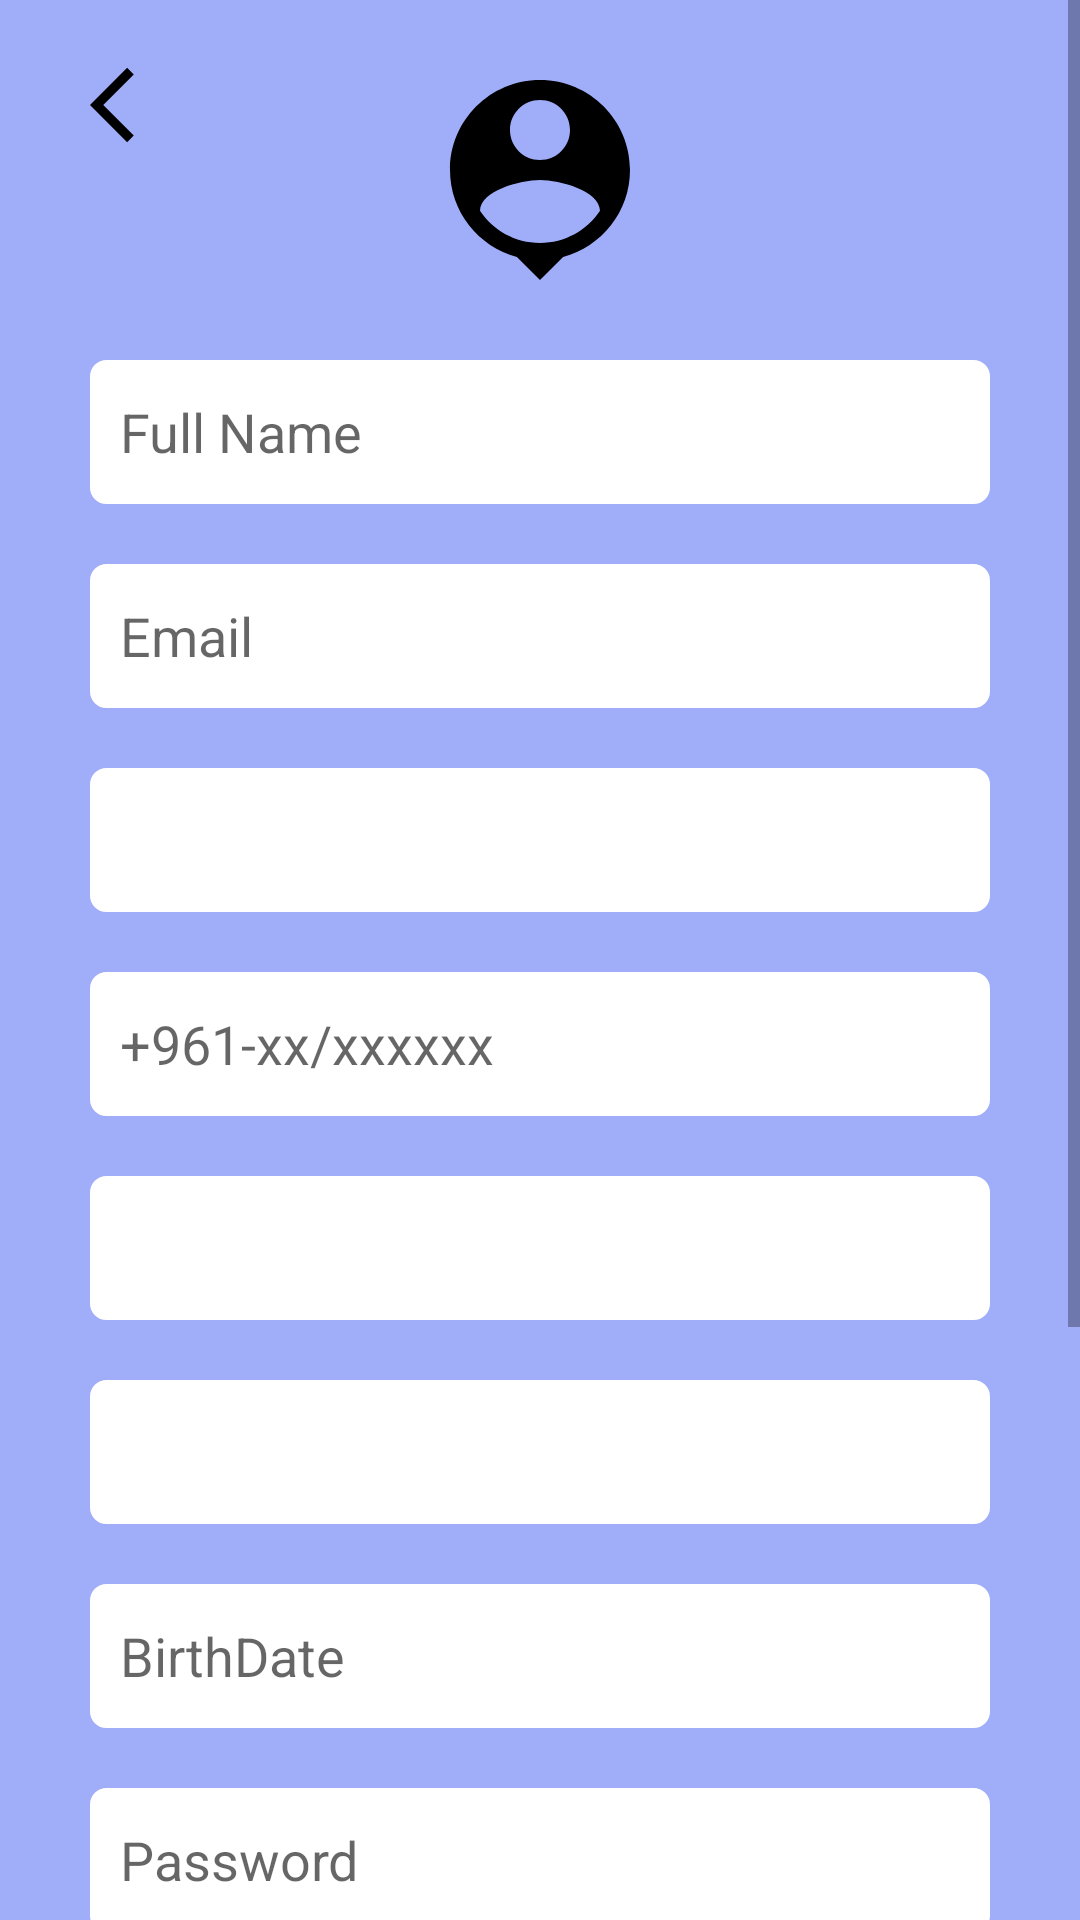

Named icons in this screenshot (1080*1920) and their bounding boxes, (x1, y1, x2, y2):
back arrow: (90, 68, 134, 142)
person: (449, 80, 630, 280)
